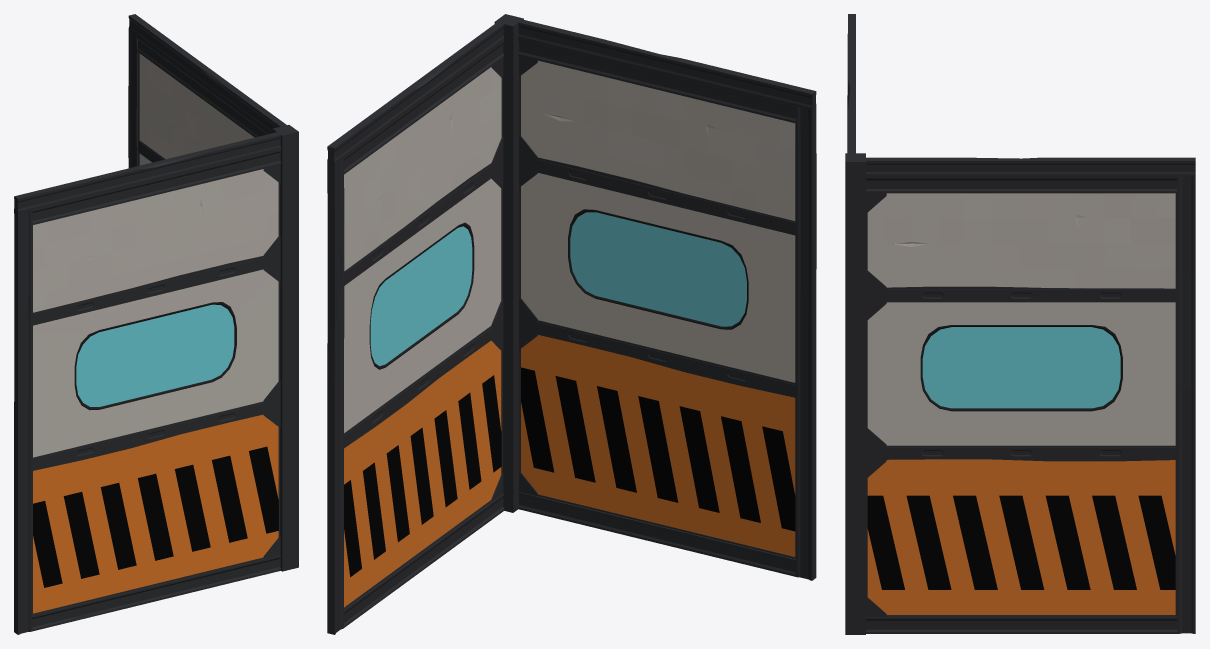
File: SM_Wall_Angle_01.gltf
3 renders of one model, left to right at view 1: azimuth 30°, elevation 25°; view 2: azimuth 150°, elevation 25°; view 3: azimuth 270°, elevation 25°, orthographic. The views are drawn at different scales.
Parts seen in each view (by area): view 1: SM_Wall_Angle_01; view 2: SM_Wall_Angle_01; view 3: SM_Wall_Angle_01.
Part boxes in pixels (x1,y1,x2,y2): SM_Wall_Angle_01: (14, 14, 298, 634); SM_Wall_Angle_01: (327, 14, 816, 634); SM_Wall_Angle_01: (845, 14, 1195, 634).
Size of the model in its own units: 2.01 by 3 by 2.01.
